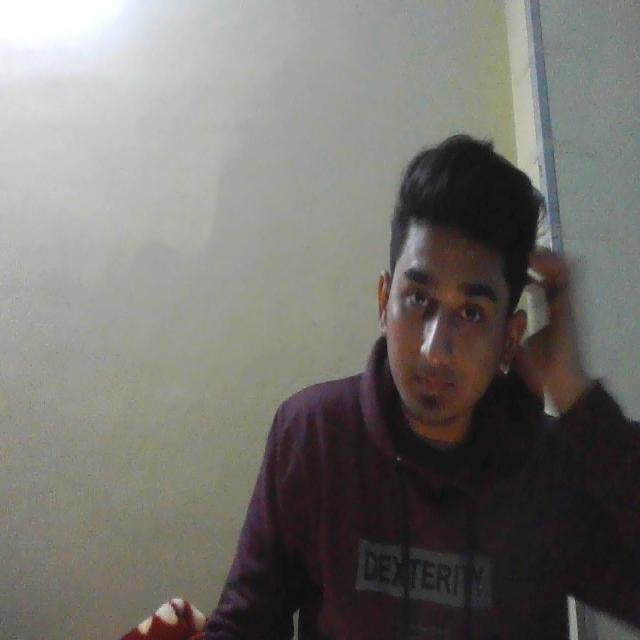real: (374, 156, 528, 448)
